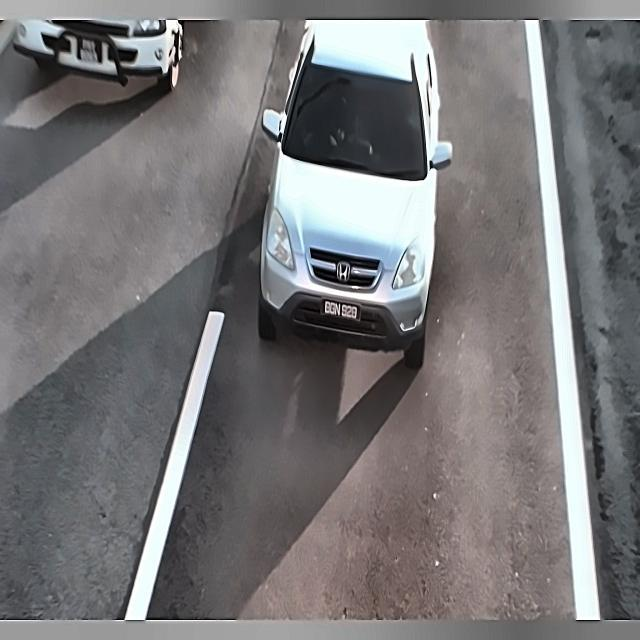car: (321, 290, 363, 328), (75, 34, 104, 68)
